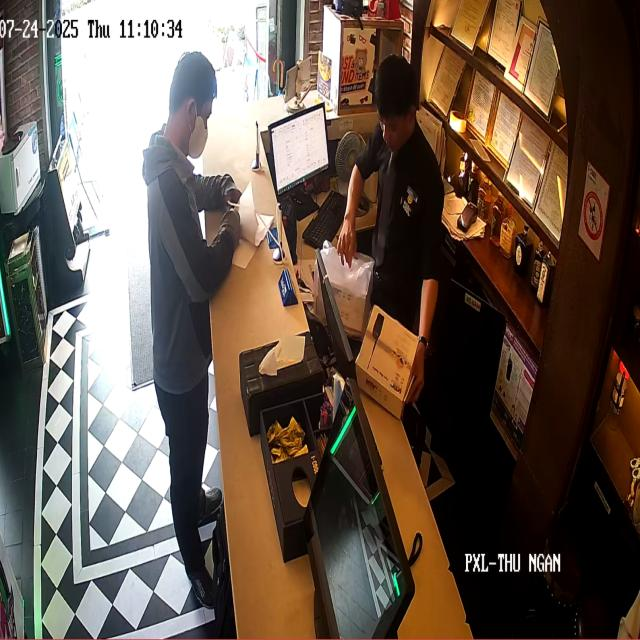khach: (148, 44, 238, 610)
nhan vien: (360, 44, 459, 432)
